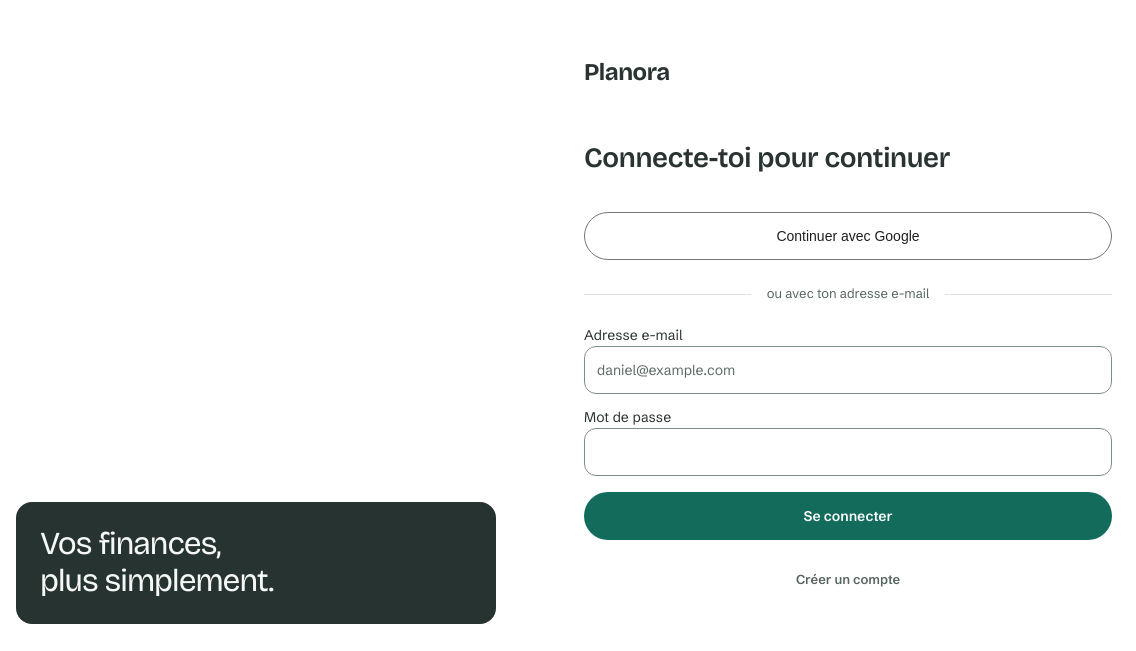
rend une erreur provider compréhensible et permet de réessayer
Click the button "Continuer avec Google" at (848, 236), box [584,212,1112,260]
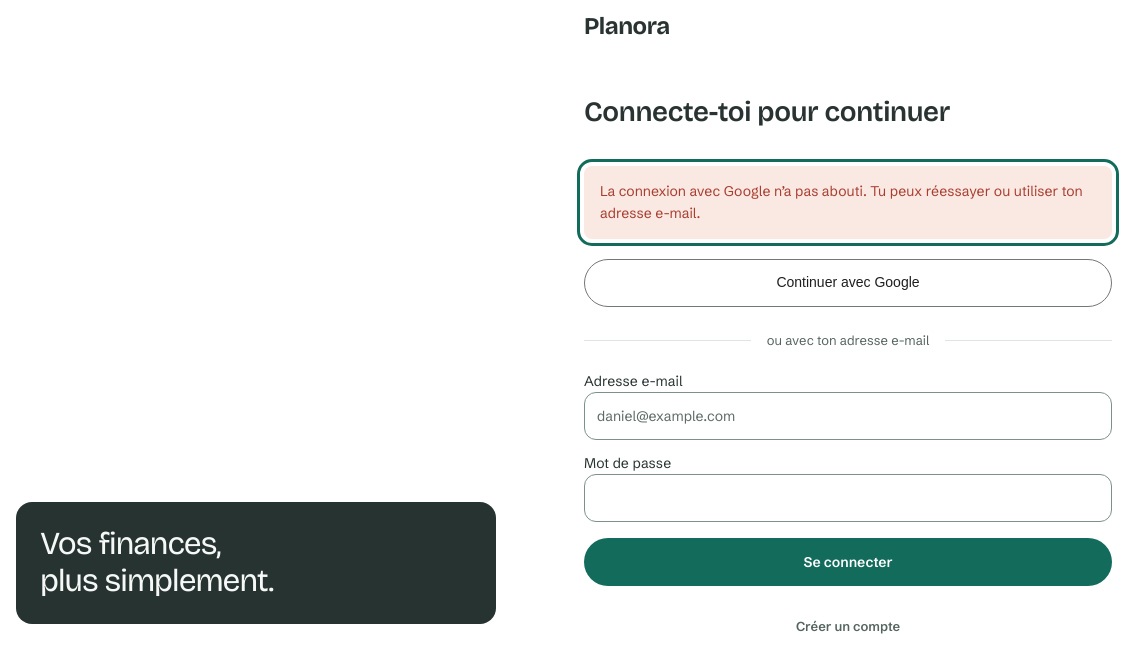
expect the button "Continuer avec Google" is enabled: met, box [584,259,1112,307]
expect the message shows "réessayer": met, box [600,182,1083,222]
